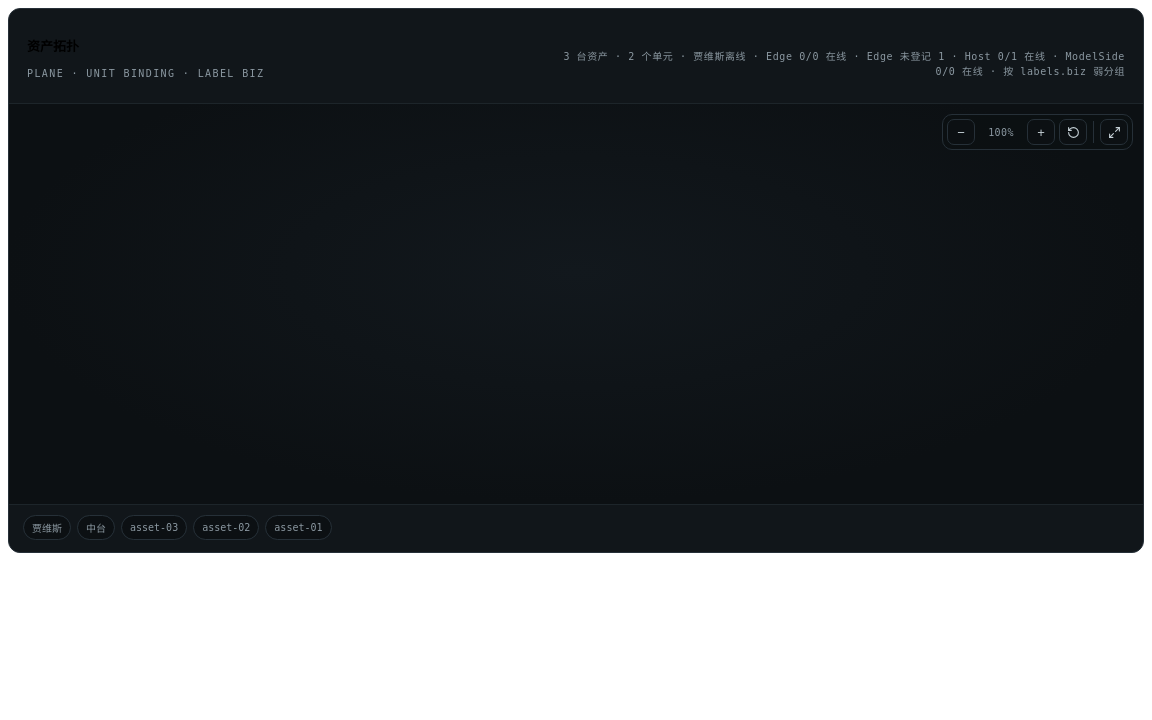
Test: AssetEstateMap › Host 必须同时健康且心跳未过期才显示在线
expect the text "Host 0/1 在线" is shown: met, box [945, 51, 1046, 62]
Click the button with aria-label "选中资产 core-payments" at (298, 528), box [265, 515, 332, 540]
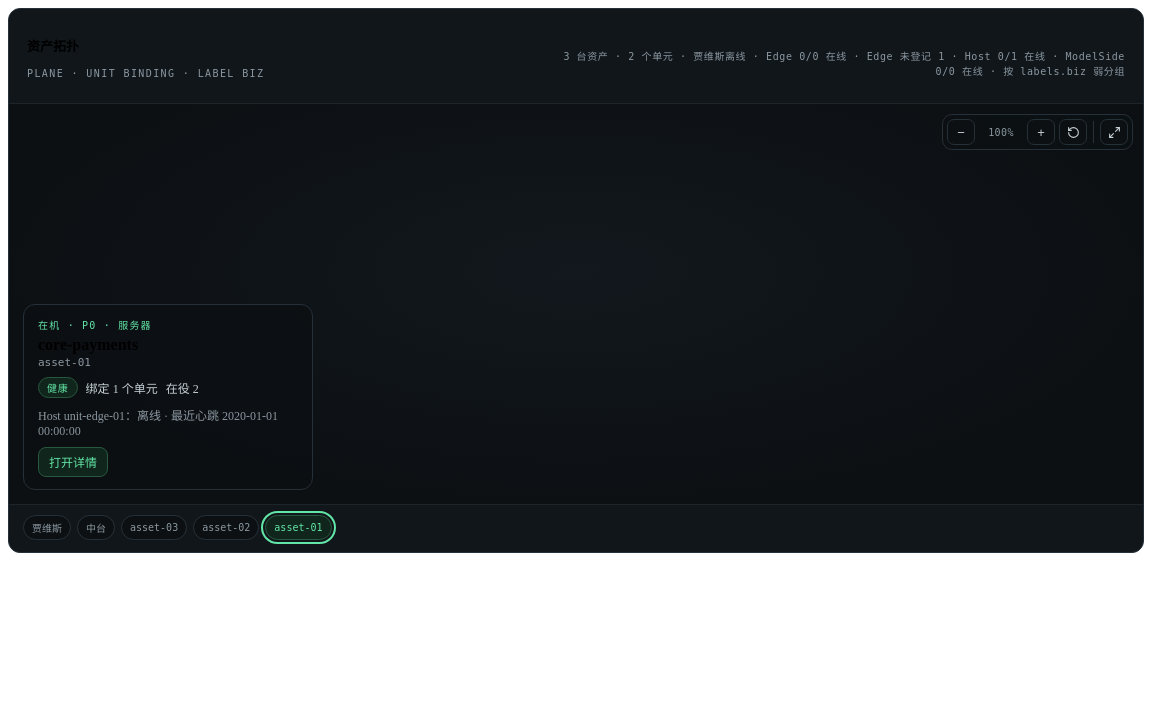
expect the text "Host unit-edge-01：离线 · 最近心跳 2020-01-01 00:00:00" is shown: met, box [38, 406, 298, 439]
